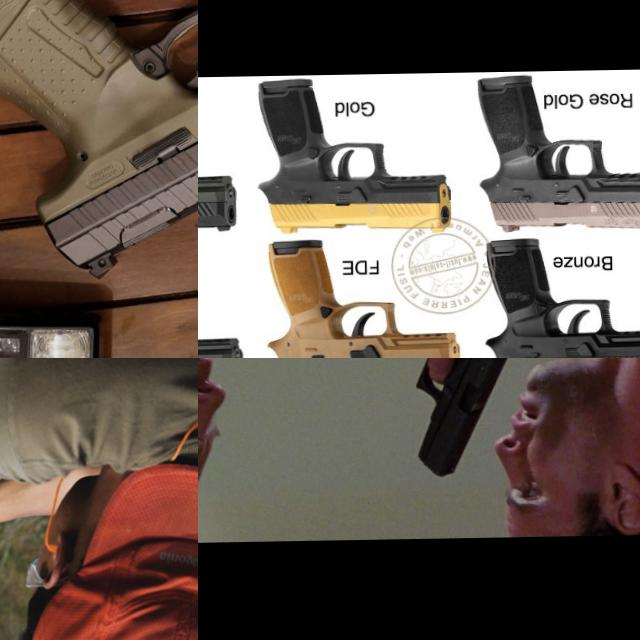handgun: (0, 0, 198, 285), (252, 74, 453, 236), (471, 70, 640, 236), (261, 234, 461, 358), (481, 233, 640, 358), (198, 78, 298, 236), (409, 358, 530, 478), (198, 240, 299, 358), (0, 547, 26, 583)
